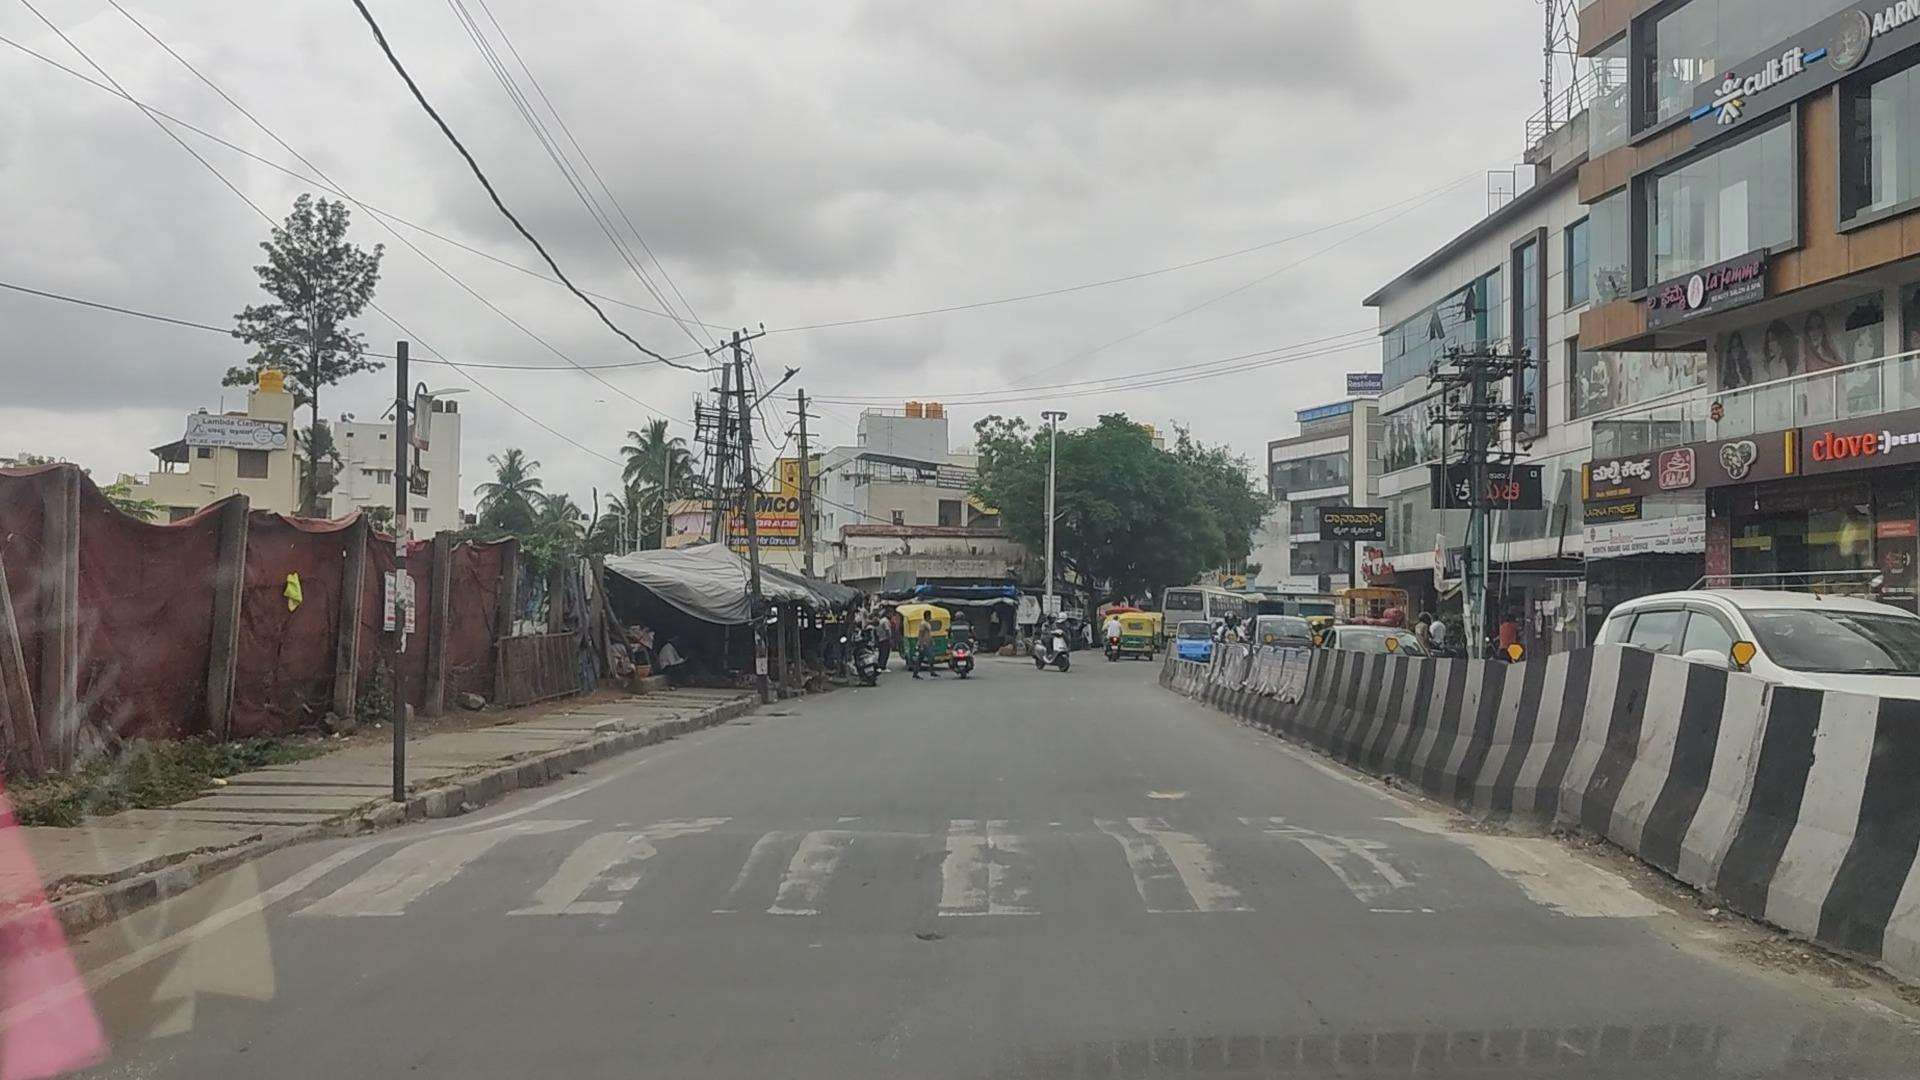SpeedBump: (290, 811, 1647, 931)
